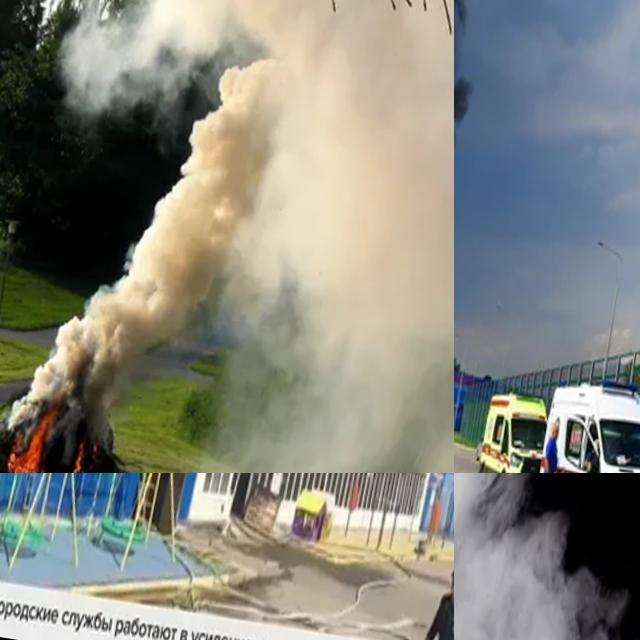smoke: (39, 0, 454, 473), (454, 473, 640, 640), (454, 0, 528, 374)
